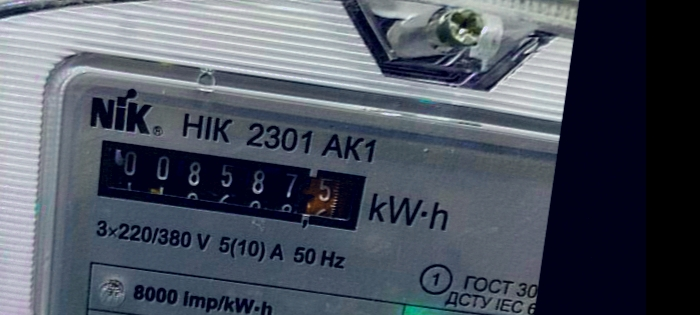0: (119, 147, 140, 178), (153, 153, 174, 183)
5: (315, 175, 336, 206), (216, 161, 237, 191)
7: (280, 169, 301, 201)
8: (248, 165, 269, 197), (184, 158, 204, 188)
screen: (75, 121, 385, 246)
